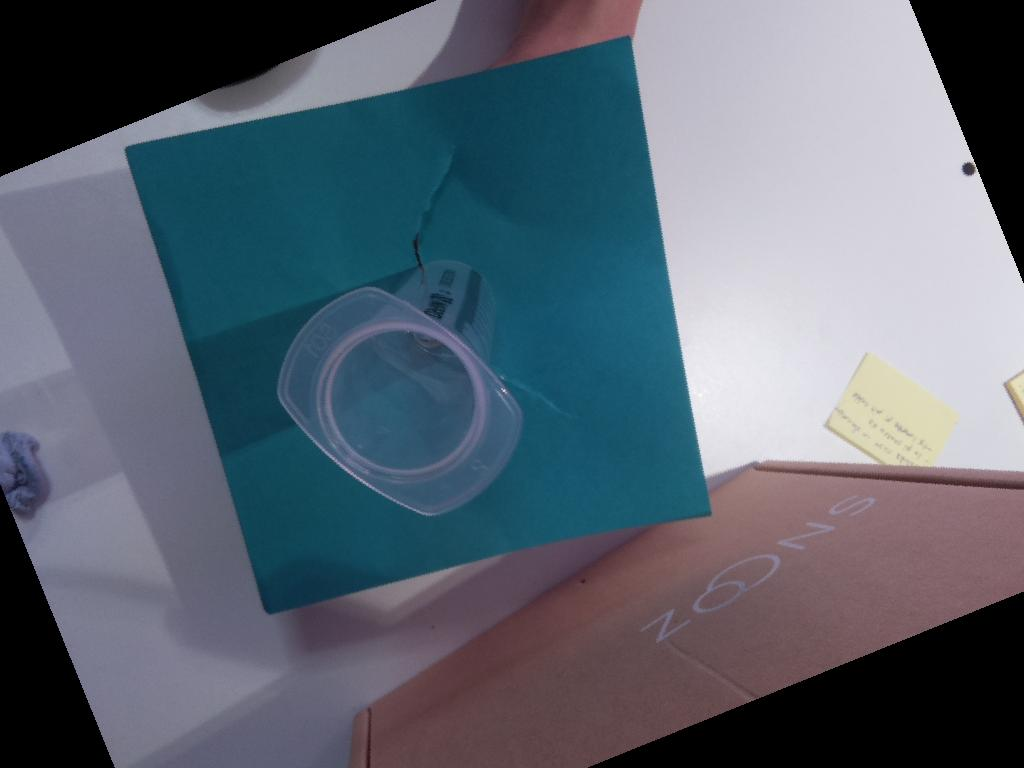clean: (275, 285, 524, 518)
